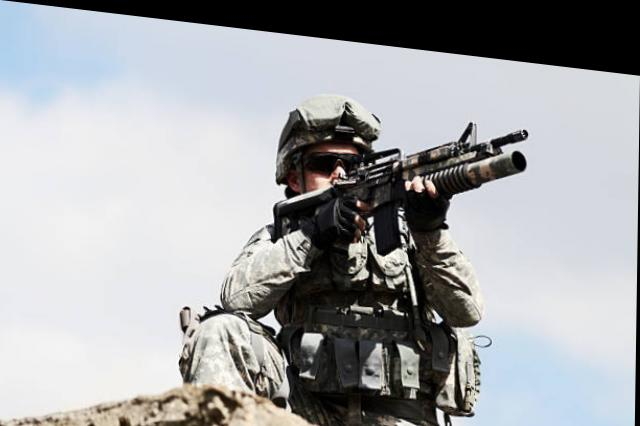other: (218, 98, 487, 416)
